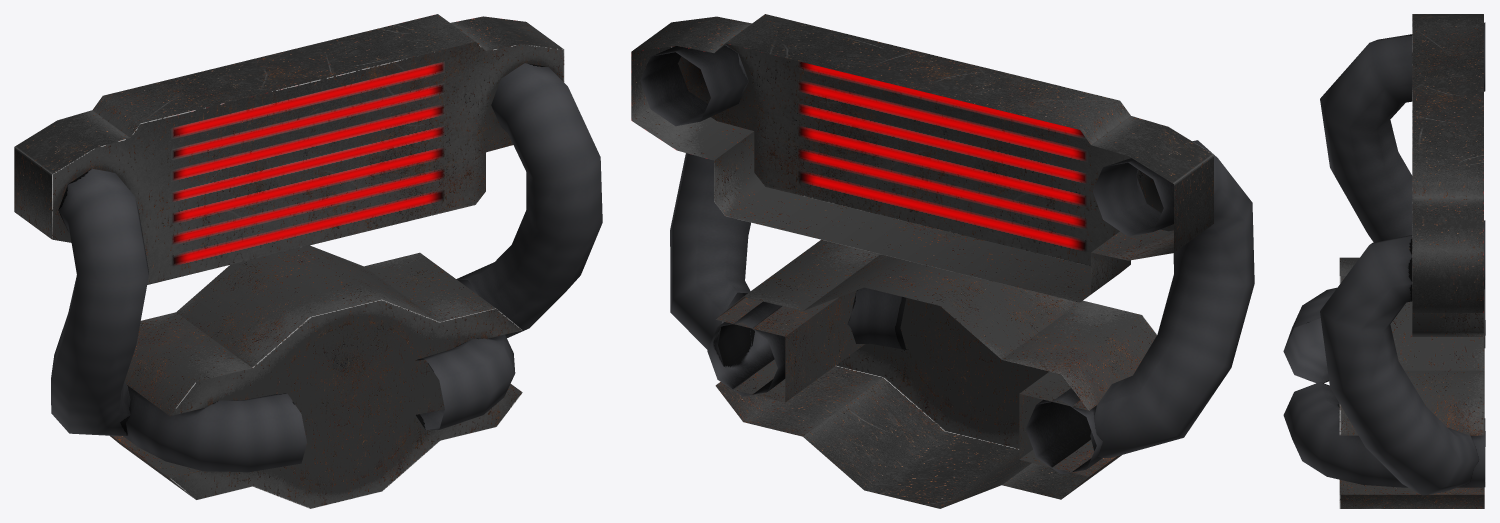
File: WallEmitter.fbx
The picture shows the model from 3 angles, left to right: view 1: azimuth 30°, elevation 25°; view 2: azimuth 150°, elevation 25°; view 3: azimuth 270°, elevation 25°; orthographic projection. The views are drawn at different scales.
Visible parts, largest first — view 1: Final.004; view 2: Final.004; view 3: Final.004.
Boxes of the visible parts, x1,y1,x2,y2 form: Final.004: (14, 14, 602, 508); Final.004: (631, 14, 1254, 508); Final.004: (1283, 14, 1485, 508).
Bounding box in the file's own units: 1.63 × 1.15 × 0.5684.
